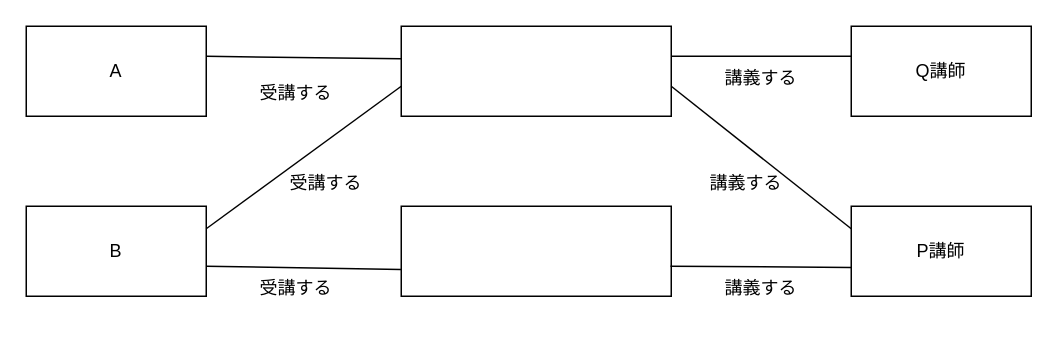
Image size: 1058x338. Some labels were removed from this diagram. The shapes that lost their labels are listed below. From the top down, each one's centre as x and y in pixels, then its label:
At pixel 535 70: "第n回L1セミナー".
At pixel 535 250: "第m回L1セミナー".
